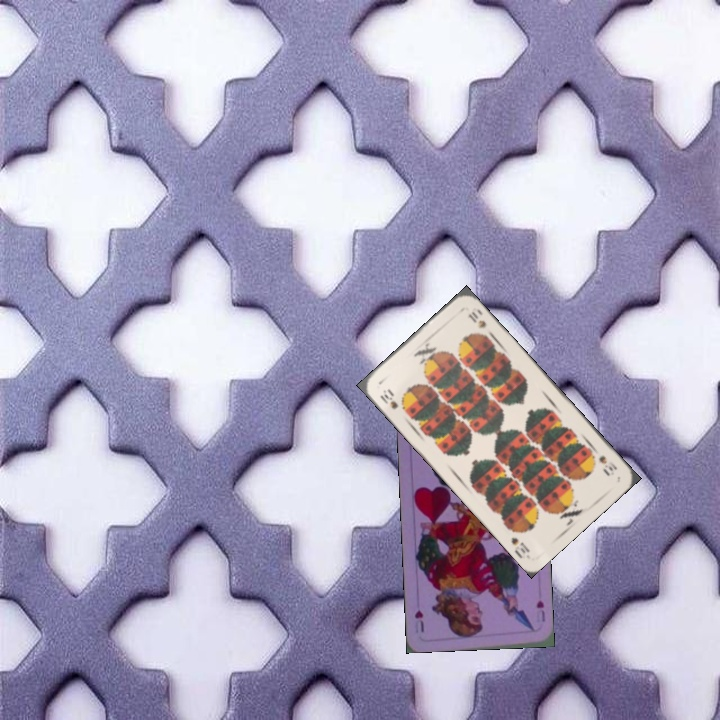HU: (532, 596, 548, 624)
S10: (594, 451, 620, 478), (376, 385, 401, 412)
